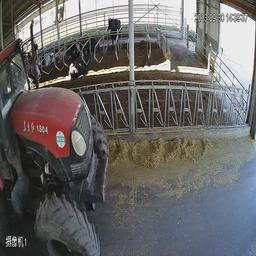cow: (103, 12, 123, 50), (68, 46, 92, 76)
